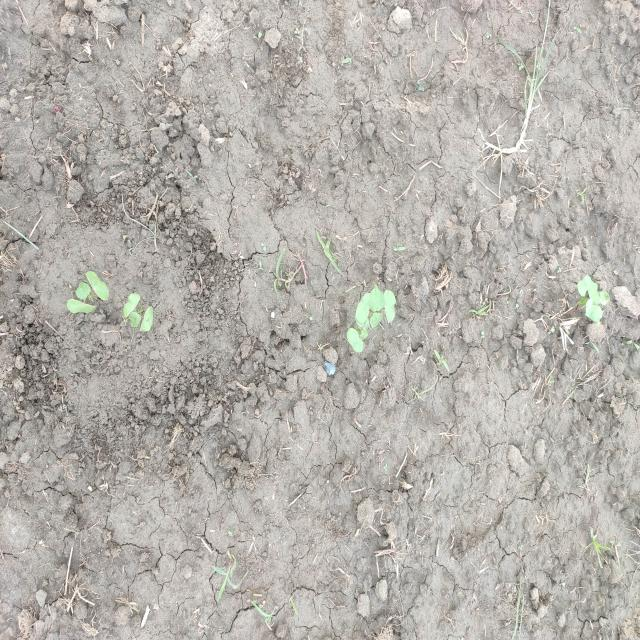seedling: (86, 271, 109, 300), (356, 293, 374, 323), (370, 282, 385, 312), (346, 328, 364, 353), (67, 299, 96, 314), (384, 290, 396, 323), (123, 294, 140, 317), (577, 275, 592, 297), (140, 306, 153, 331), (588, 280, 600, 305), (585, 305, 602, 322), (76, 282, 91, 300), (355, 314, 370, 330), (370, 312, 383, 329), (130, 311, 141, 327), (598, 291, 610, 305), (586, 299, 593, 316)
